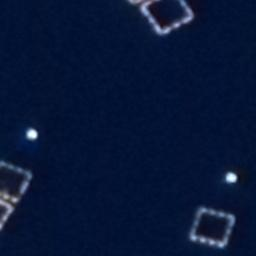square_solid: (188, 206, 237, 250), (139, 1, 195, 36), (1, 159, 33, 205)
